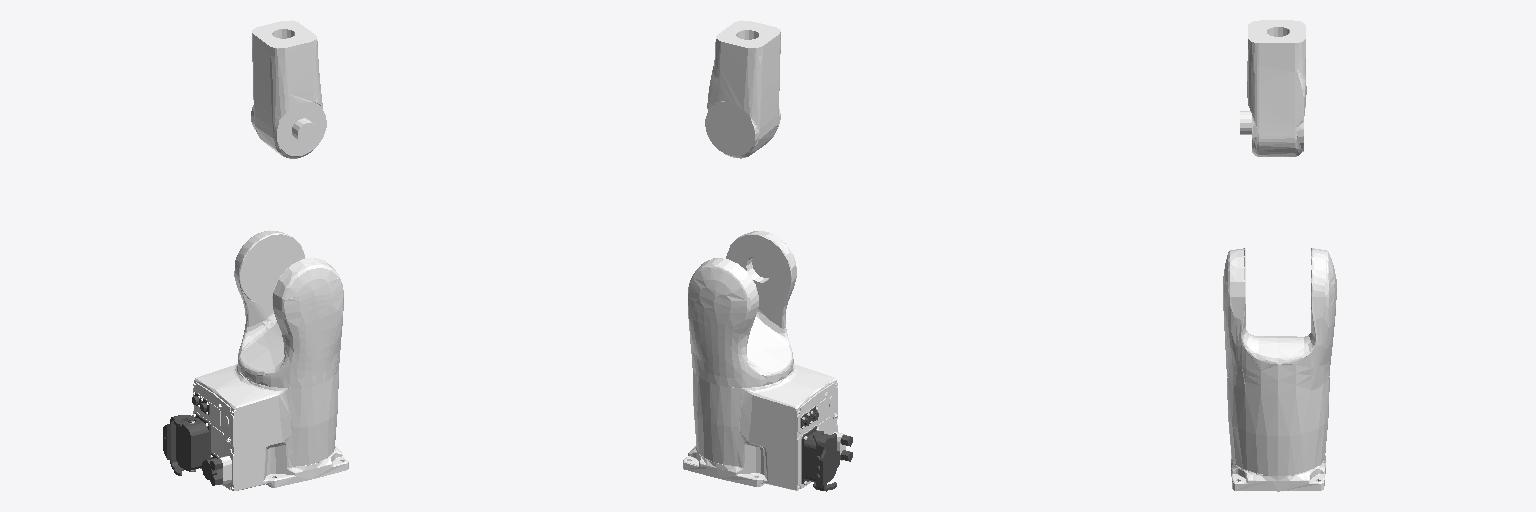
URDF robot description (denso_vs060):
<?xml version="1.0"?>
<robot name="denso_vs060" xmlns:xacro="http://www.ros.org/wiki/xacro">
  <link name="base_link">
    <visual>
      <origin xyz="0 0 0" rpy="0 0 0"/>
      <geometry>
        <mesh filename="package://denso_description/urdf/meshes/BASE.dae"/>
      </geometry>
    </visual>
    <collision>
      <origin xyz="0 0 0" rpy="0 0 0"/>
      <geometry>
        <mesh filename="package://denso_description/urdf/meshes/BASE.stl"/>
      </geometry>
    </collision>
    <inertial>
      <mass value="1000" />
      <origin xyz="0 0 0" rpy="0 0 0"/>
      <inertia ixx="20" ixy="0" ixz="0" iyy="20" iyz="0" izz="20"/>
    </inertial>
  </link>
  <link name="J1">
    <visual>
      <origin xyz="0 0 0.1815" rpy="0 0 0"/>
      <geometry>
        <mesh filename="package://denso_description/urdf/meshes/J1.dae"/>
      </geometry>
    </visual>
    <collision>
      <origin xyz="0 0 0.1815" rpy="0 -0 0"/>
      <geometry>
        <mesh filename="package://denso_description/urdf/meshes/J1.stl"/>
      </geometry>
    </collision>
    <inertial>
      <mass value="4.327" />
      <origin xyz="0.013885 -0.005997 0.043991" rpy="0 0 0"/>
      <inertia ixx="0.025492" ixy="0" ixz="0" iyy="0.032502" iyz="0" izz="0.01779"/>
    </inertial>
  </link>
  <link name="J2">
    <visual>
      <origin xyz="0 0 0.1635" rpy="0 0 0"/>
      <geometry>
        <mesh filename="package://denso_description/urdf/meshes/J2.dae"/>
      </geometry>
    </visual>
    <collision>
      <origin xyz="0 0 0.1635" rpy="0 0 0"/>
      <geometry>
        <mesh filename="package://denso_description/urdf/meshes/J2.stl"/>
      </geometry>
    </collision>
    <inertial>
      <mass value="9.475" />
      <origin xyz="0.015837 -0.073696 0.010087" rpy="0 0 0"/>
      <inertia ixx="0.108024" ixy="0" ixz="0" iyy="0.025579" iyz="0" izz="0.112871"/>
    </inertial>
  </link>
  <link name="J3">
    <visual>
      <origin xyz="0 0 0.305" rpy="0 0 0"/>
      <geometry>
        <mesh filename="package://denso_description/urdf/meshes/J3.dae"/>
      </geometry>
    </visual>
    <collision>
      <origin xyz="0 0 0.305" rpy="0 0 0"/>
      <geometry>
        <mesh filename="package://denso_description/urdf/meshes/J3.stl"/>
      </geometry>
    </collision>
    <inertial>
      <mass value="4.097" />
      <origin xyz="0.011544 -0.057408 0.006203" rpy="0 0 0"/>
      <inertia ixx="0.015999" ixy="0" ixz="0" iyy="0.00638" iyz="0" izz="0.016882"/>
    </inertial>
  </link>
  <link name="J4">
    <visual>
      <origin xyz="-0.01 0 0.1645" rpy="0 0 0"/>
      <geometry>
        <mesh filename="package://denso_description/urdf/meshes/J4.dae"/>
      </geometry>
    </visual>
    <collision>
      <origin xyz="-0.01 0 0.1645" rpy="0 0 0"/>
      <geometry>
        <mesh filename="package://denso_description/urdf/meshes/J4.stl"/>
      </geometry>
    </collision>
    <inertial>
      <mass value="1.779" />
      <origin xyz="0.003998 -0.004975 0.052919" rpy="0 0 0"/>
      <inertia ixx="0.005106" ixy="0" ixz="0" iyy="0.005266" iyz="0" izz="0.002621"/>
    </inertial>
  </link>
  <link name="J5">
    <visual>
      <origin xyz="0 0 0.1355" rpy="0 0 0"/>
      <geometry>
        <mesh filename="package://denso_description/urdf/meshes/J5.dae"/>
      </geometry>
    </visual>
    <collision>
      <origin xyz="0 0 0.1355" rpy="0 0 0"/>
      <geometry>
        <mesh filename="package://denso_description/urdf/meshes/J5.stl"/>
      </geometry>
    </collision>
    <inertial>
      <mass value="1.211" />
      <origin xyz="0.011902 -0.004739 0.010398" rpy="0 0 0"/>
      <inertia ixx="0.001093" ixy="0" ixz="0" iyy="0.001629" iyz="0" izz="0.001615"/>
    </inertial>
  </link>
  <link name="J6">
    <visual>
      <origin xyz="0 0 0.07" rpy="0 0 0"/>
      <geometry>
        <mesh filename="package://denso_description/urdf/meshes/J6.dae"/>
      </geometry>
    </visual>
    <collision>
      <origin xyz="0 0 0.07" rpy="0 0 0"/>
      <geometry>
        <mesh filename="package://denso_description/urdf/meshes/J6.stl"/>
      </geometry>
    </collision>
    <inertial>
      <mass value="4.154" />
      <origin xyz="-0.000401015 0.0770342 0.0962886" rpy="0 0 0"/>
      <inertia ixx="0.0216473" ixy="-0.000147026" ixz="-0.00011778" iyy="0.0346876" iyz="0.00159321" izz="0.022927"/>
    </inertial>
  </link>
  
  <joint name="j1" type="revolute">
    <parent link="base_link"/>
    <child  link="J1"/>
    <origin xyz="0 0 0.1815" rpy="0 0 0 "/>
    <axis   xyz="0 0 1"/>
    <limit lower="-2.96705973" upper="2.96705973" effort="19.7336" velocity="4.0" />
    <dynamics damping="0.2" friction="0" />
  </joint>
  <joint name="j2" type="revolute">
    <parent link="J1"/>
    <child  link="J2"/>
    <origin xyz="0 0 0.1635" rpy="0 0 0 "/>
    <axis   xyz="0 1 0"/>
    <limit lower="-2.0943951" upper="2.0943951" effort="16.8447" velocity="3.0" />
    <dynamics damping="0.2" friction="0" />
  </joint>
  <joint name="j3" type="revolute">
    <parent link="J2"/>
    <child  link="J3"/>
    <origin xyz="0 0 0.305" rpy="0 0 0 "/>
    <axis   xyz="0 1 0"/>
    <limit lower="-2.18166156" upper="2.70526034" effort="20.7089" velocity="3.0" />
    <dynamics damping="0.2" friction="0" />
  </joint>
  <joint name="j4" type="revolute">
    <parent link="J3"/>
    <child  link="J4"/>
    <origin xyz="-0.01 0 0.1645" rpy="0 0 0 "/>
    <axis   xyz="0 0 1"/>
    <limit lower="-4.71238898" upper="4.71238898" effort="20.9665" velocity="4.0" />
    <dynamics damping="0.2" friction="0" />
  </joint>
  <joint name="j5" type="revolute">
    <parent link="J4"/>
    <child  link="J5"/>
    <origin xyz="0 0 0.1355" rpy="0 0 0 "/>
    <axis   xyz="0 1 0"/>
    <limit lower="-1.65806279" upper="1.65806279" effort="23.7229" velocity="3.0" />
    <dynamics damping="0.2" friction="0" />
  </joint>
  <joint name="j6" type="revolute">
    <parent link="J5"/>
    <child  link="J6"/>
    <origin xyz="0 0 0.07" rpy="0 0 0"/>
    <axis   xyz="0 0 1"/>
    <limit lower="-3.2288" upper="3.2288" effort="33.5103" velocity="6.3" />
    <dynamics damping="0.2" friction="0" />
  </joint>
  
  <transmission name="j1">
    <type>transmission_interface/SimpleTransmission</type>
    <joint name="j1">
      <hardwareInterface>PositionJointInterface</hardwareInterface>
    </joint>
    <actuator name="j1_motor">
      <mechanicalReduction>1</mechanicalReduction>
    </actuator>
  </transmission>
  <transmission name="j2">
    <type>transmission_interface/SimpleTransmission</type>
    <joint name="j2">
      <hardwareInterface>PositionJointInterface</hardwareInterface>
    </joint>
    <actuator name="j2_motor">
      <mechanicalReduction>1</mechanicalReduction>
    </actuator>
  </transmission>
  <transmission name="j3">
    <type>transmission_interface/SimpleTransmission</type>
    <joint name="j3">
      <hardwareInterface>PositionJointInterface</hardwareInterface>
    </joint>
    <actuator name="j3_motor">
      <mechanicalReduction>1</mechanicalReduction>
    </actuator>
  </transmission>
  <transmission name="j4">
    <type>transmission_interface/SimpleTransmission</type>
    <joint name="j4">
      <hardwareInterface>PositionJointInterface</hardwareInterface>
    </joint>
    <actuator name="j4_motor">
      <mechanicalReduction>1</mechanicalReduction>
    </actuator>
  </transmission>
  <transmission name="j5">
    <type>transmission_interface/SimpleTransmission</type>
    <joint name="j5">
      <hardwareInterface>PositionJointInterface</hardwareInterface>
    </joint>
    <actuator name="j5_motor">
      <mechanicalReduction>1</mechanicalReduction>
    </actuator>
  </transmission>
  <transmission name="j6">
    <type>transmission_interface/SimpleTransmission</type>
    <joint name="j6">
      <hardwareInterface>PositionJointInterface</hardwareInterface>
    </joint>
    <actuator name="j6_motor">
      <mechanicalReduction>1</mechanicalReduction>
    </actuator>
  </transmission>
</robot>

--- Render facts (derived) ---
The picture shows the robot from 3 angles, left to right: view 1: azimuth 30°, elevation 25°; view 2: azimuth 150°, elevation 25°; view 3: azimuth 270°, elevation 25°; orthographic projection.
Model denso_vs060 with 7 links and 6 joints (6 revolute), rooted at base_link, posed every joint at zero.
Links seen in each view (by area): view 1: base_link, J1, J3; view 2: base_link, J1, J3; view 3: J1, base_link, J3.
Boxes of the visible links, x1,y1,x2,y2 form: base_link: (163,364,348,490); J1: (234,230,343,387); J3: (251,20,326,158); base_link: (683,364,852,491); J1: (688,231,796,387); J3: (705,20,780,158); J1: (1223,248,1336,395); base_link: (1227,376,1329,491); J3: (1240,20,1306,156).
Bounding box of the posed robot: 0.2917 × 0.1925 × 0.8145 m (x, y, z).
3 mesh visuals loaded from 7 distinct referenced files (3 Collada DAE); not drawn: 4 (file found but could not be loaded).